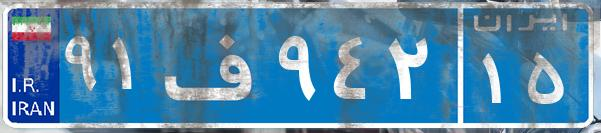1: (475, 38, 525, 113), (110, 28, 158, 105)
2: (385, 28, 445, 110)
4: (330, 28, 385, 110)
5: (525, 38, 570, 115)
9: (273, 28, 330, 110), (57, 26, 110, 107)
ف: (158, 15, 273, 115)
